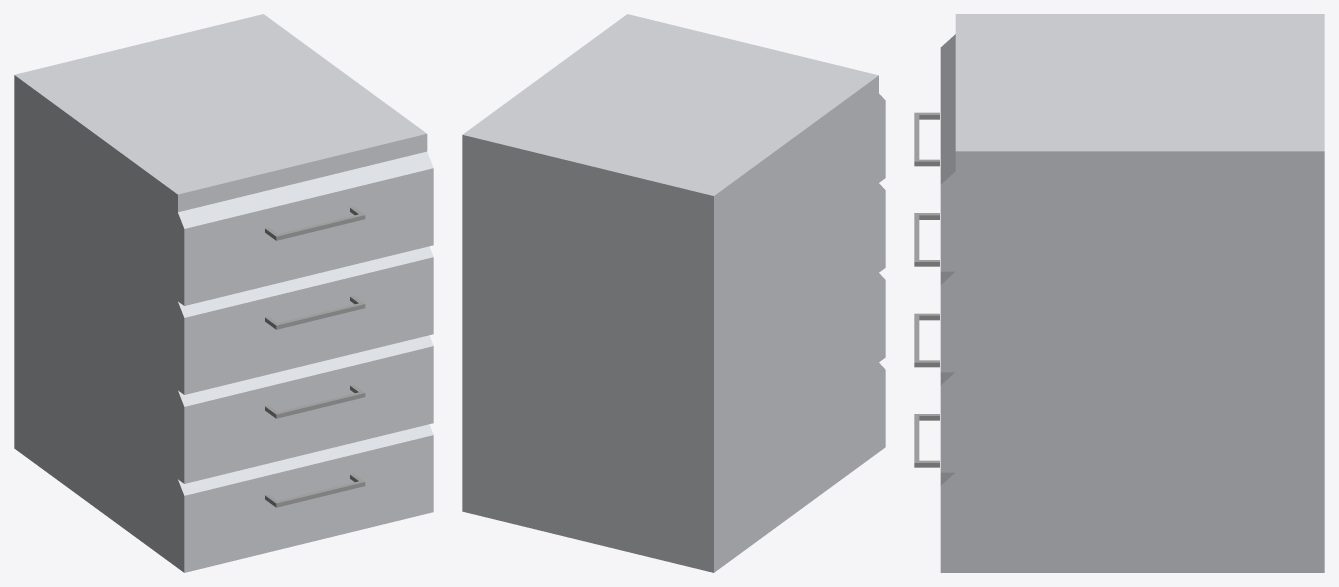
The picture shows the model from 3 angles, left to right: view 1: azimuth 30°, elevation 25°; view 2: azimuth 150°, elevation 25°; view 3: azimuth 270°, elevation 25°; orthographic projection. The views are drawn at different scales.
Visible parts, largest first — view 1: _313-965.dwg, GRIFF1 (×4); view 2: _313-965.dwg; view 3: _313-965.dwg, GRIFF1 (×4).
Boxes of the visible parts, x1,y1,x2,y2 form: _313-965.dwg: (14,14,433,572); GRIFF1 (×4): (265,206,365,507); _313-965.dwg: (462,14,885,572); _313-965.dwg: (940,14,1324,572); GRIFF1 (×4): (914,112,939,467).
Bounding box in the file's own units: 17.32 × 21.89 × 24.8.
